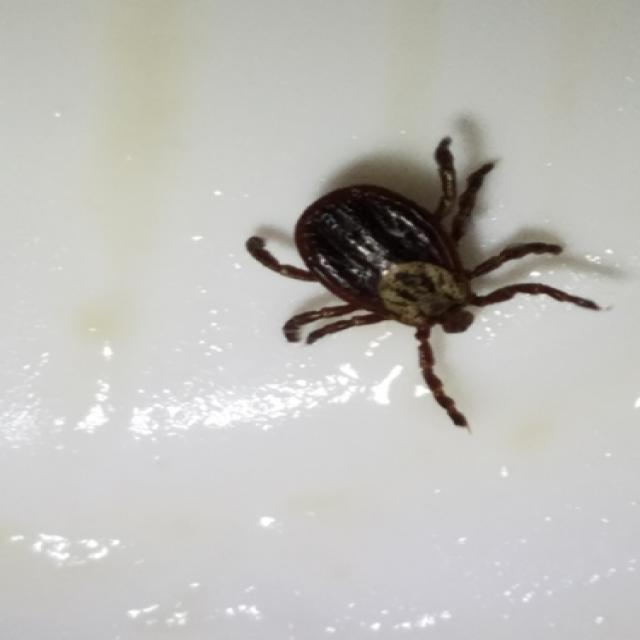Dermacentor Reticulatus-F: (246, 138, 601, 428)
